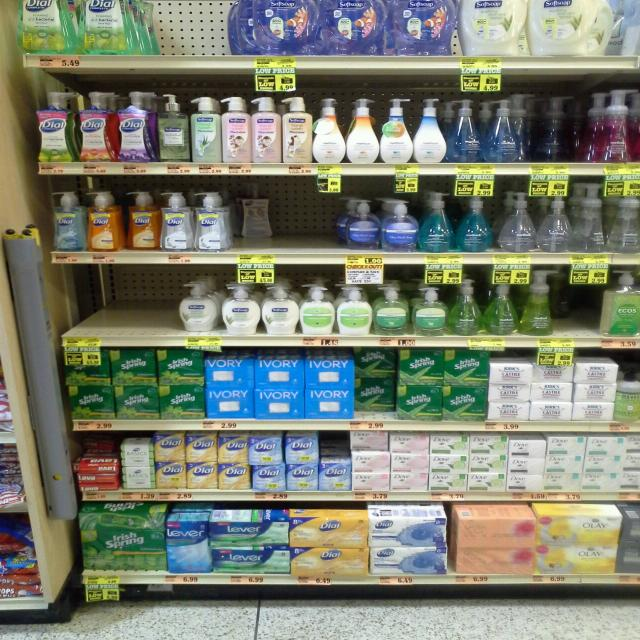void: (85, 274, 174, 330), (156, 2, 224, 48), (278, 184, 333, 240), (562, 272, 597, 334)
